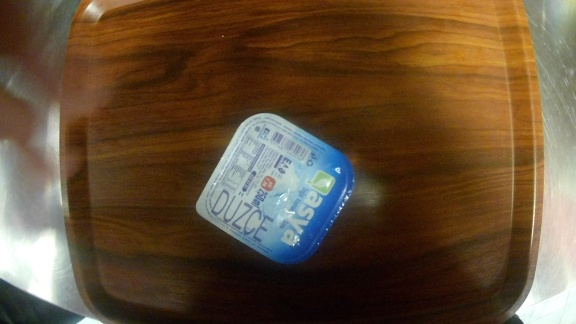kucuksu: (189, 109, 359, 269)
